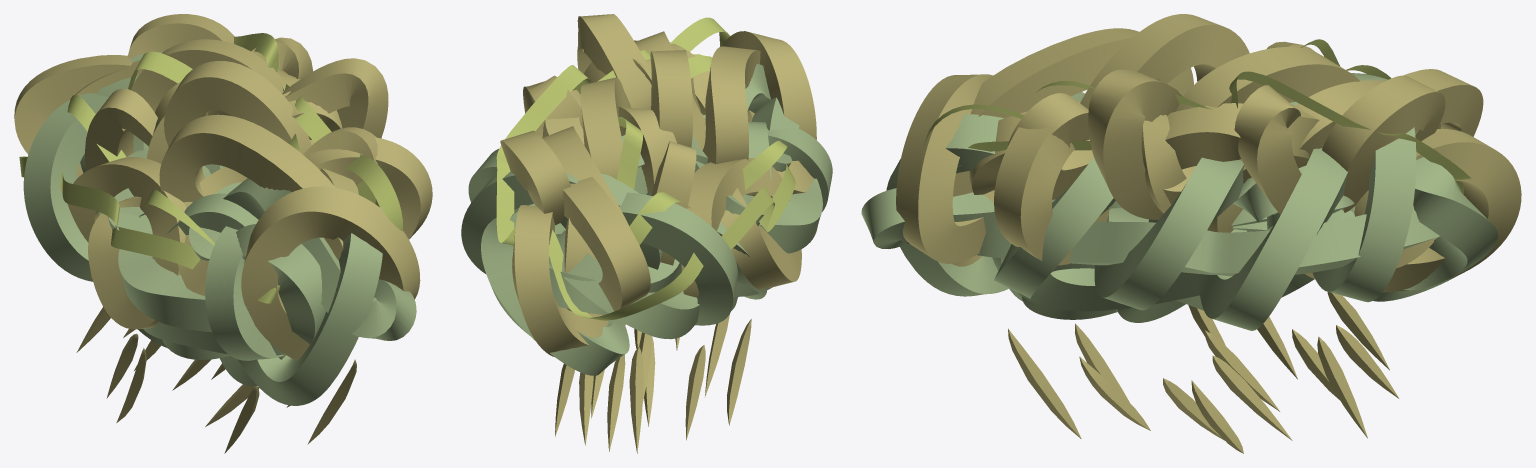
File: alienraincloud.fbx
The picture shows the model from 3 angles, left to right: view 1: azimuth 30°, elevation 25°; view 2: azimuth 150°, elevation 25°; view 3: azimuth 270°, elevation 25°; orthographic projection. The views are drawn at different scales.
Parts seen in each view (by area): view 1: alienraincloud; view 2: alienraincloud; view 3: alienraincloud.
Boxes of the visible parts, x1,y1,x2,y2 form: alienraincloud: [14, 14, 432, 453]; alienraincloud: [461, 14, 832, 453]; alienraincloud: [861, 14, 1521, 453].
Bounding box in the file's own units: 58.62 × 70.74 × 100.
